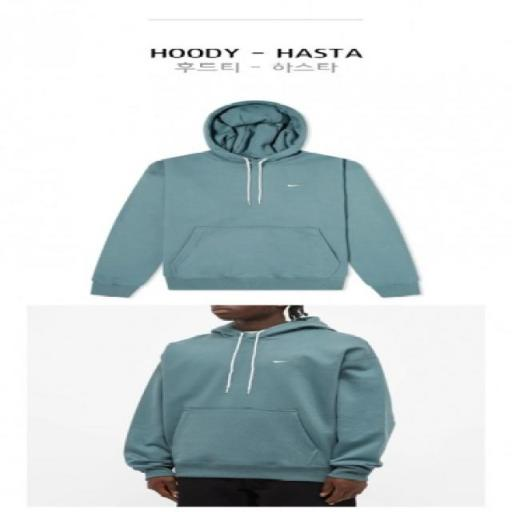Nike: (278, 182, 309, 188)
